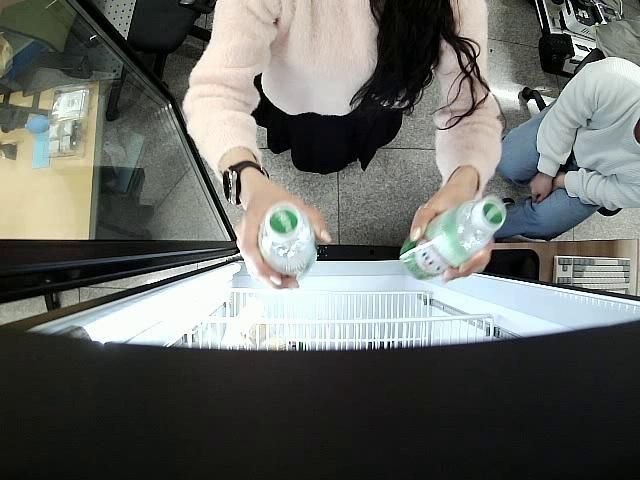18_trevi: (399, 192, 506, 282), (258, 200, 318, 276)
